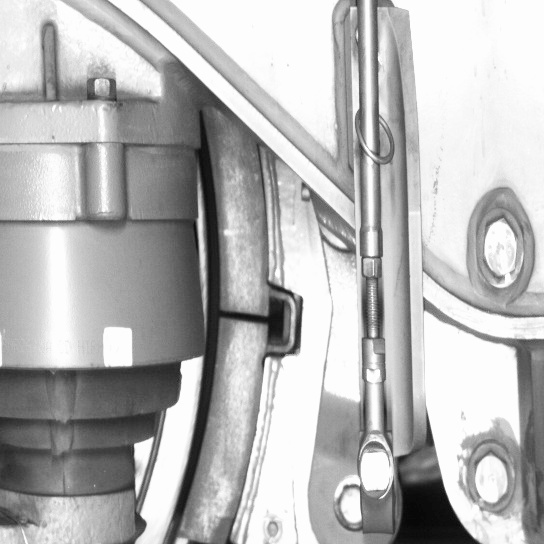KnifeSwitch: (157, 143, 279, 542)
